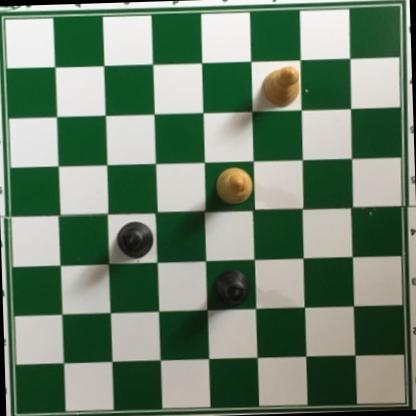black-bishop: (210, 269, 250, 312), (115, 220, 156, 261)
white-bishop: (260, 64, 300, 108), (214, 166, 252, 206)
